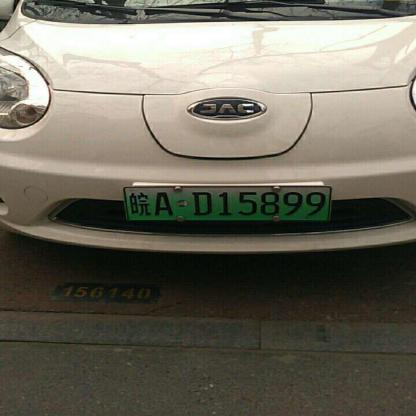lp: (124, 187, 330, 219)
